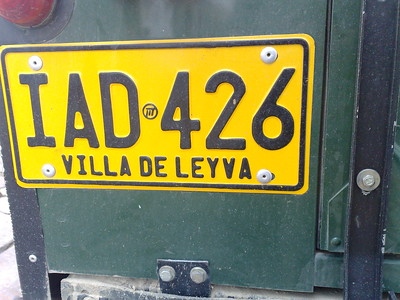placa_carro: (2, 30, 318, 196)
